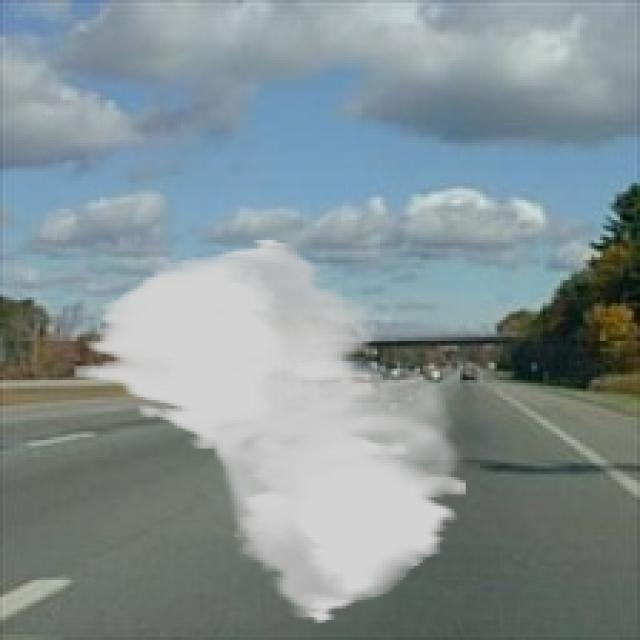Smoke: (74, 237, 469, 626)
